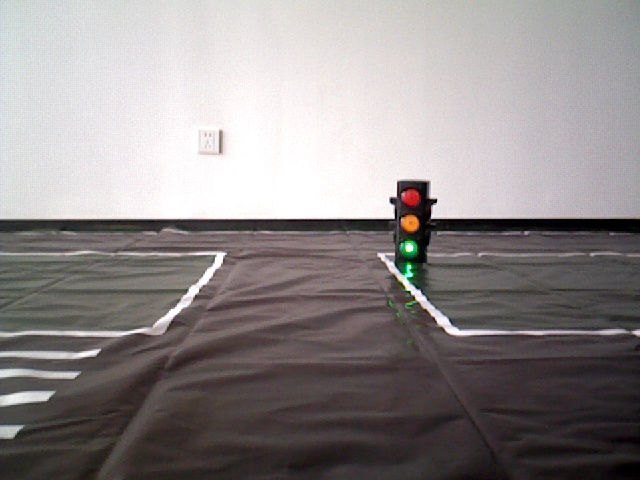green: (397, 183, 421, 257)
